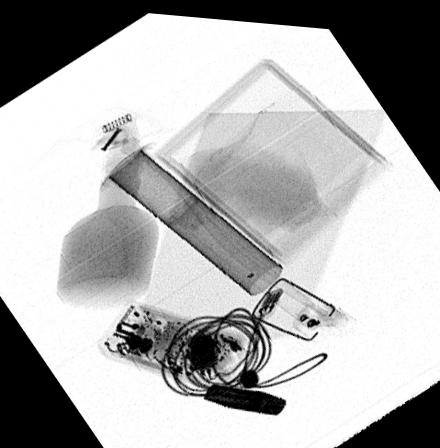Lighter: (203, 378, 288, 410)
